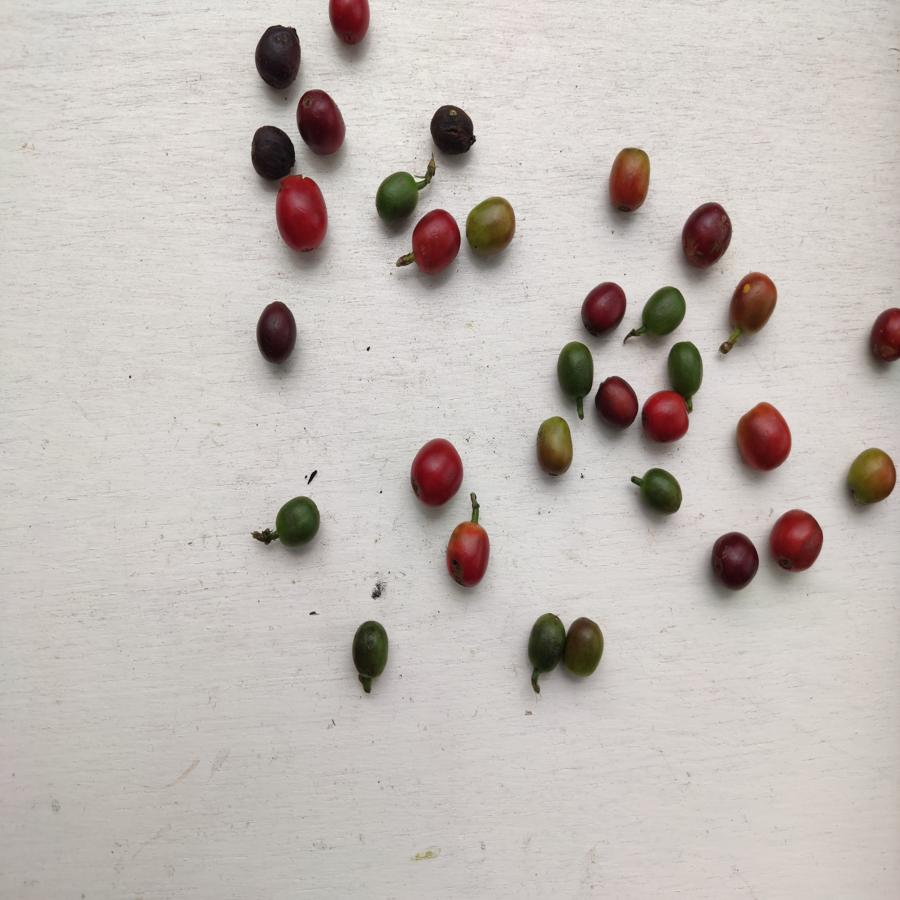Inmaduro: (273, 494, 327, 553), (636, 283, 690, 339), (556, 338, 595, 406), (352, 617, 391, 682), (639, 467, 686, 517), (375, 170, 420, 221), (527, 609, 561, 675), (669, 338, 704, 399)
Maduro: (734, 401, 792, 474), (276, 174, 328, 255), (407, 437, 465, 508), (768, 508, 826, 575), (439, 521, 494, 589), (411, 210, 463, 278), (641, 390, 693, 446), (324, 1, 380, 49), (863, 302, 900, 370)
Pinton: (726, 270, 778, 341), (463, 193, 520, 254), (844, 446, 899, 507), (607, 143, 652, 214), (531, 411, 577, 476), (562, 614, 605, 678)
Sobremaduro: (293, 87, 350, 158), (679, 199, 735, 269), (708, 528, 763, 589), (254, 22, 301, 87), (256, 299, 301, 365), (426, 104, 480, 158), (248, 125, 298, 183), (593, 376, 638, 434), (583, 278, 627, 333)
